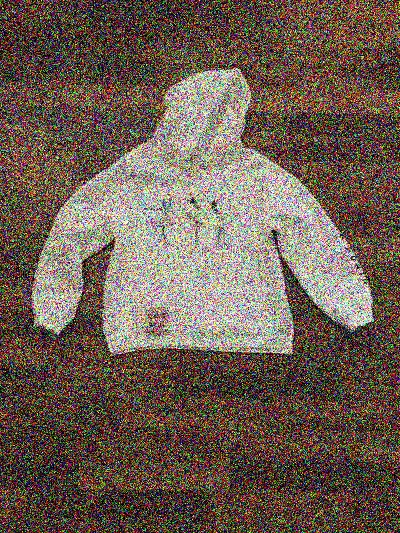Hoodie: (10, 54, 400, 377)
